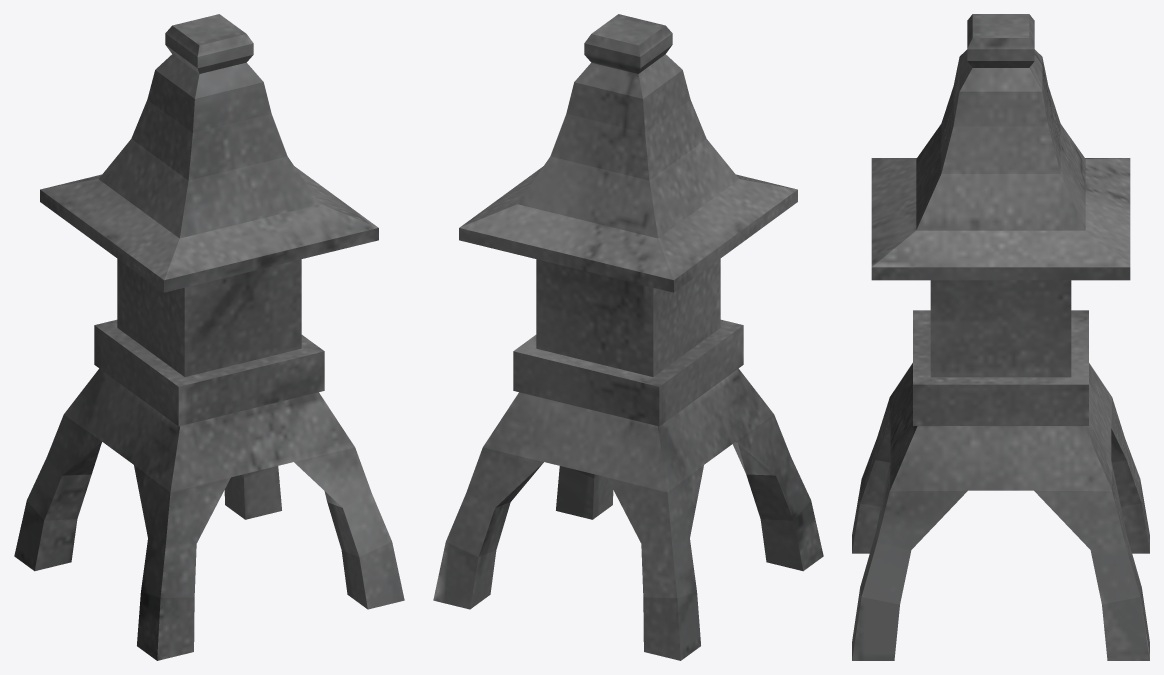
The model's file is Pagoda04.glb.
3 renders of one model, left to right at view 1: azimuth 30°, elevation 25°; view 2: azimuth 150°, elevation 25°; view 3: azimuth 270°, elevation 25°, orthographic. The views are drawn at different scales.
Parts seen in each view (by area): view 1: Zen Pagoda 04; view 2: Zen Pagoda 04; view 3: Zen Pagoda 04.
Boxes of the visible parts, x1=… form: Zen Pagoda 04: x1=14, y1=14, x2=404, y2=660; Zen Pagoda 04: x1=433, y1=14, x2=823, y2=660; Zen Pagoda 04: x1=852, y1=14, x2=1149, y2=660.
Size of what is drawn, in the model's own units: 0.6897 by 1.46 by 0.6897.
Materials: 1 (1 with a texture image).
